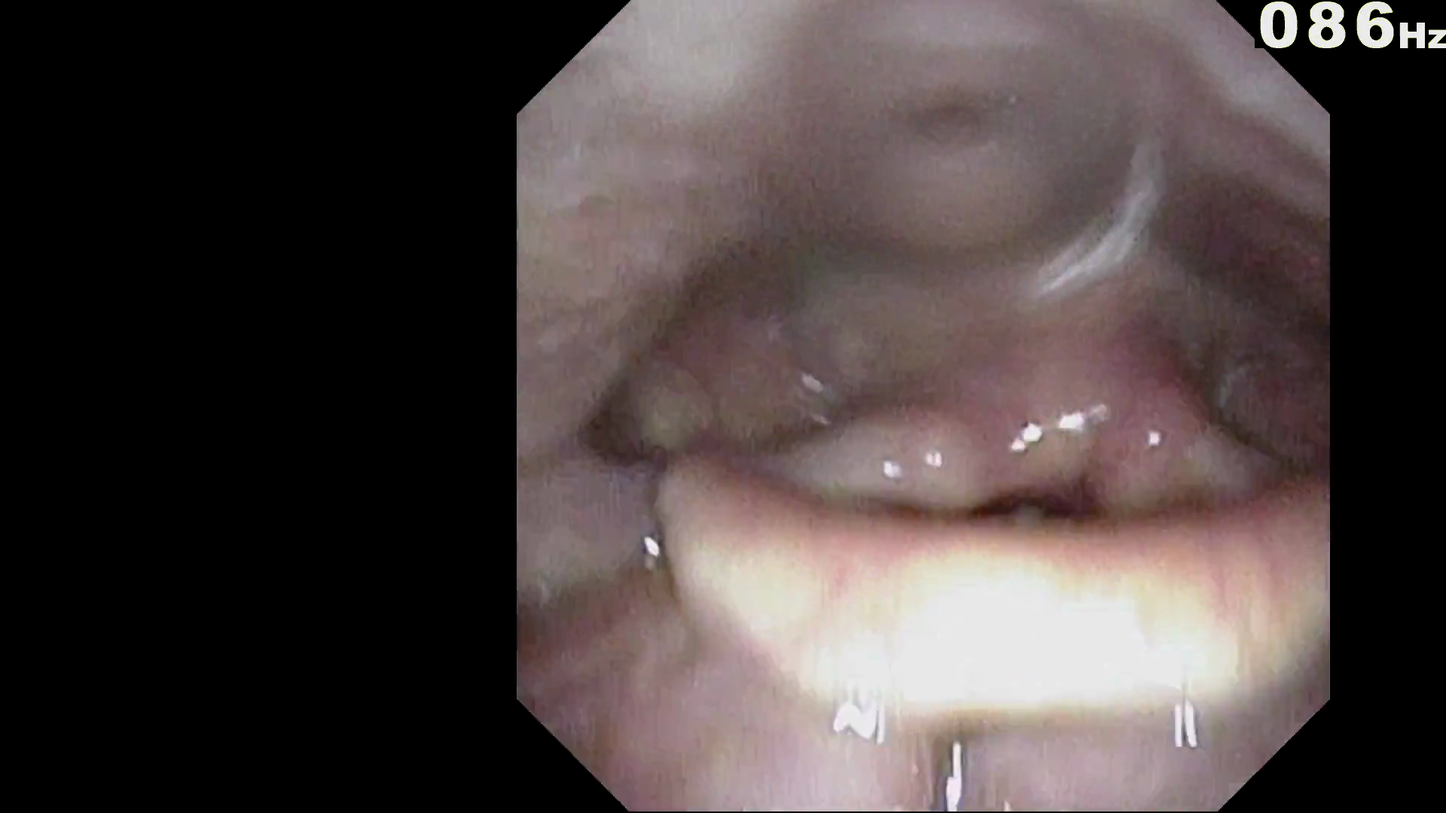epiglottis: (650, 491, 1277, 715)
